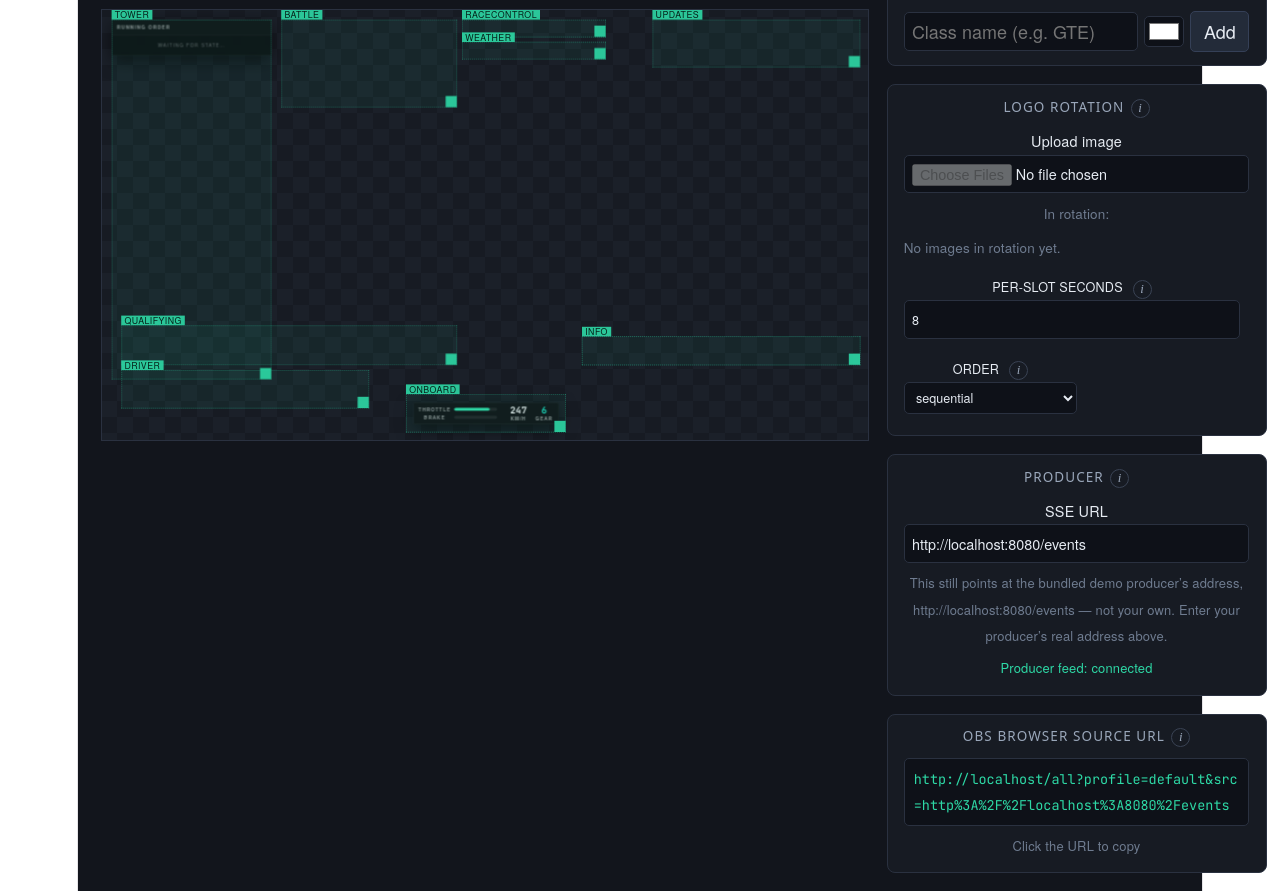
Scenario: rule 27 — the connection follows the configured producer URL, debounced › reopens against the edited URL after the field settles, closing the old connection
(page scrolled)
Type "http://race-pc.lan:9100/events" into the field with test id "producer-src".
click(1076, 544); type("http://race-pc.lan:9100/events")  # box [904,524,1249,563]
Wait 500 ms
(page scrolled)
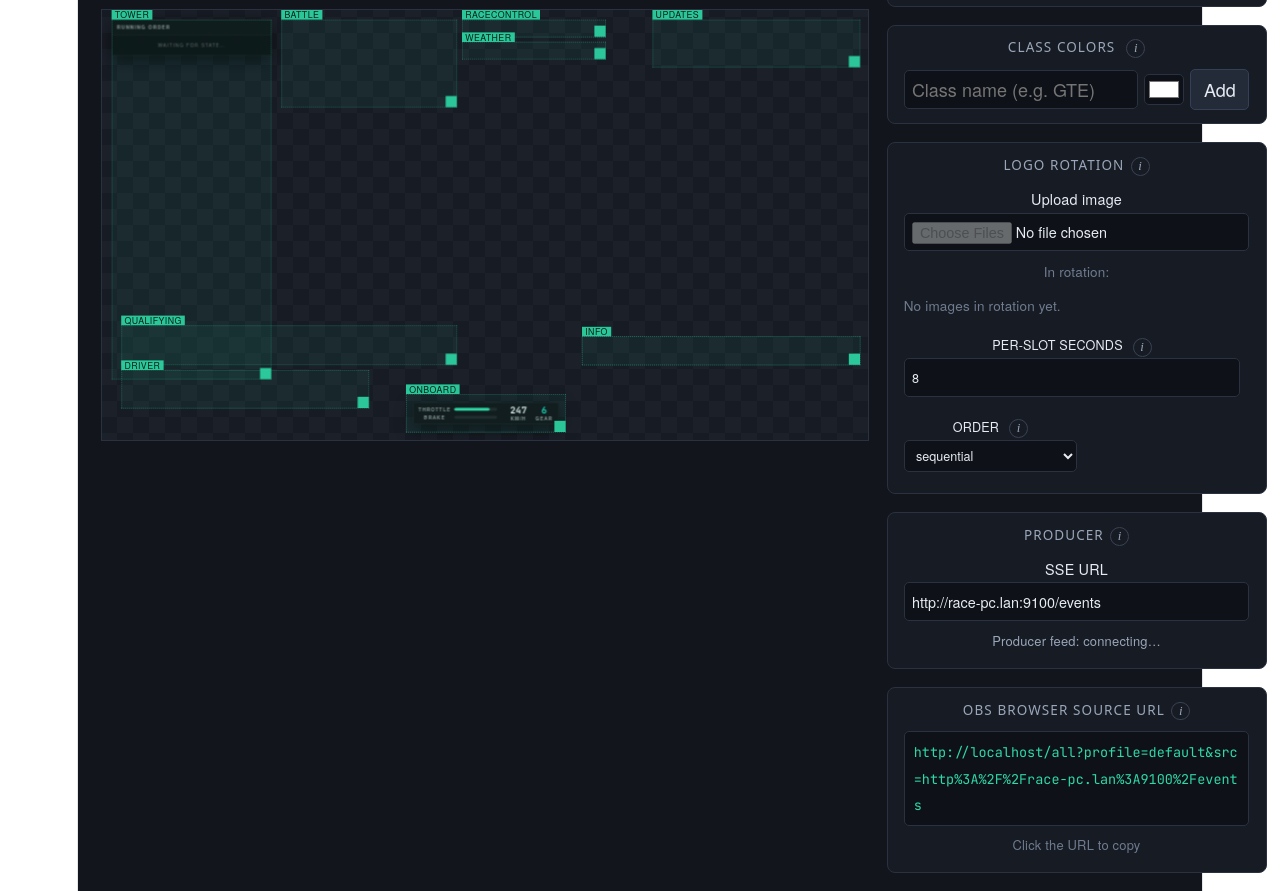
Check: the message with test id "feed-status" reads "Producer feed: connecting…", box [992,632,1161,650]
